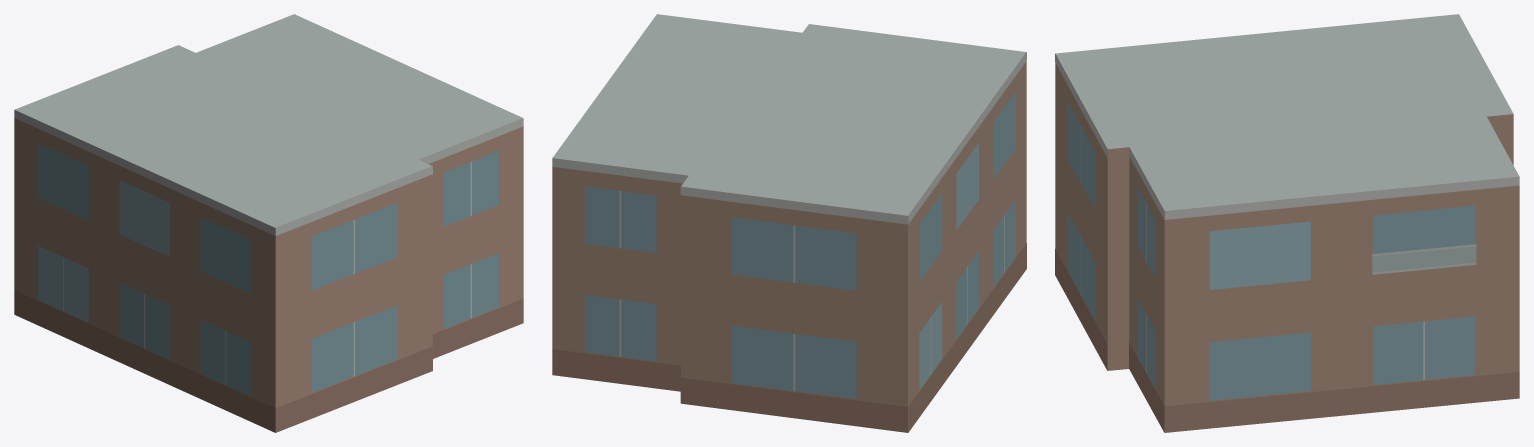
Rendered from survey-upis-32697446.glb.
3 renders of one model, left to right at view 1: azimuth 30°, elevation 25°; view 2: azimuth 150°, elevation 25°; view 3: azimuth 270°, elevation 25°, orthographic. The views are drawn at different scales.
Parts seen in each view (by area): view 1: survey-upis-32697446.tmp; view 2: survey-upis-32697446.tmp; view 3: survey-upis-32697446.tmp.
Boxes of the visible parts, bbox=[...] form: survey-upis-32697446.tmp: bbox=[14, 14, 523, 432]; survey-upis-32697446.tmp: bbox=[552, 14, 1026, 432]; survey-upis-32697446.tmp: bbox=[1055, 14, 1519, 432].
Size of the model in its own units: 11.64 by 6.1 by 11.59.
